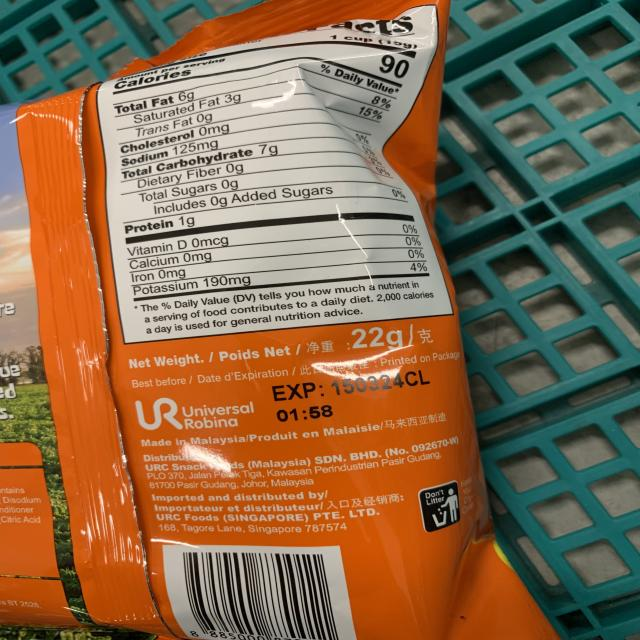object_name: (0, 70, 466, 640)
